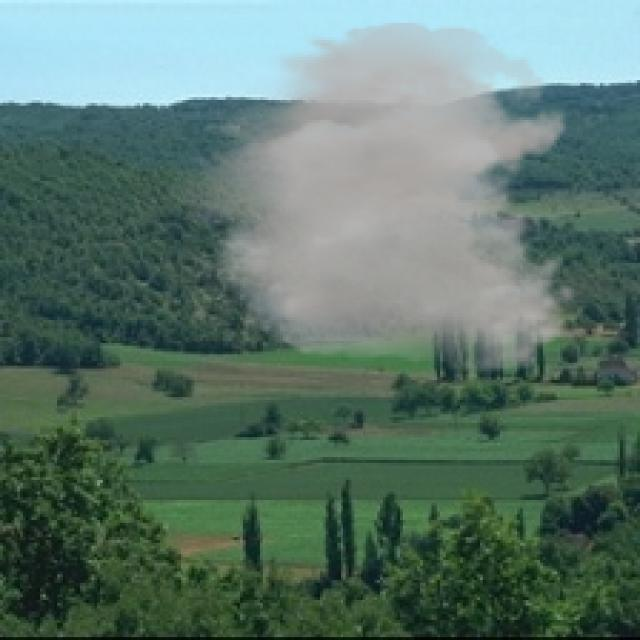Smoke: (160, 22, 580, 374)
